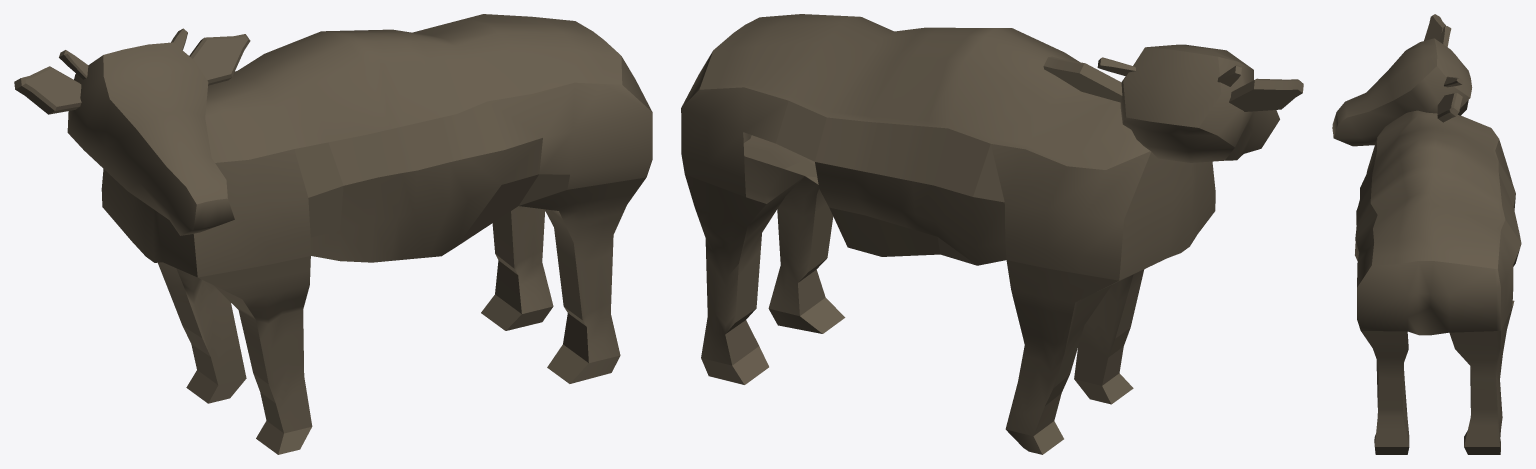
The model's file is cow.fbx.
3 renders of one model, left to right at view 1: azimuth 30°, elevation 25°; view 2: azimuth 150°, elevation 25°; view 3: azimuth 270°, elevation 25°, orthographic. The views are drawn at different scales.
Parts seen in each view (by area): view 1: pCube1, pCube2, pCube3, pCube4; view 2: pCube1, pCube2, pCube3, pCube4; view 3: pCube1, pCube2, pCube4, pCube3.
Boxes of the visible parts, <box> form: pCube1: <box>101,14,652,454</box>; pCube2: <box>67,42,234,235</box>; pCube3: <box>14,66,81,114</box>; pCube4: <box>189,34,250,85</box>; pCube1: <box>681,14,1215,454</box>; pCube2: <box>1120,44,1279,162</box>; pCube3: <box>1229,78,1303,111</box>; pCube4: <box>1043,56,1122,102</box>; pCube1: <box>1355,110,1521,454</box>; pCube2: <box>1332,38,1472,146</box>; pCube4: <box>1437,93,1462,122</box>; pCube3: <box>1424,14,1449,46</box>.
Size of the model in its own units: 2.4 by 1.55 by 0.9851.
